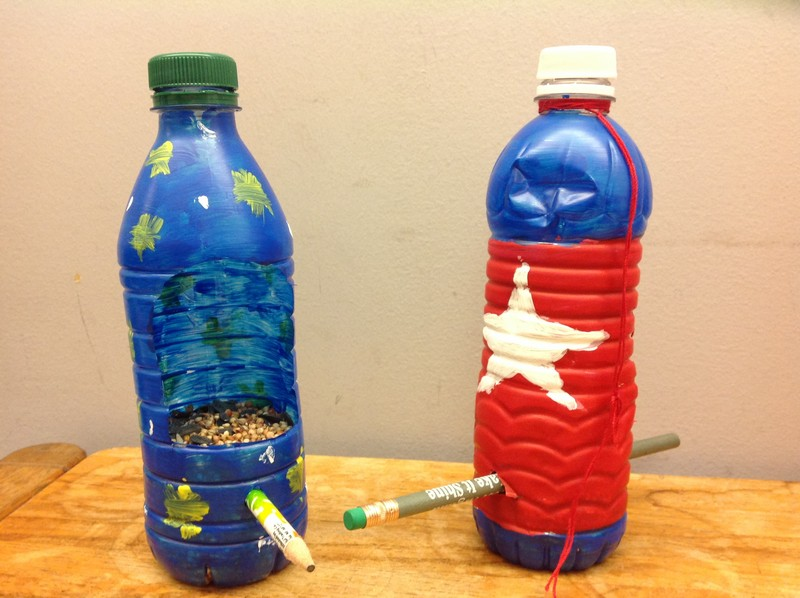Rec_Plastic: (452, 37, 670, 574), (107, 53, 328, 581)
